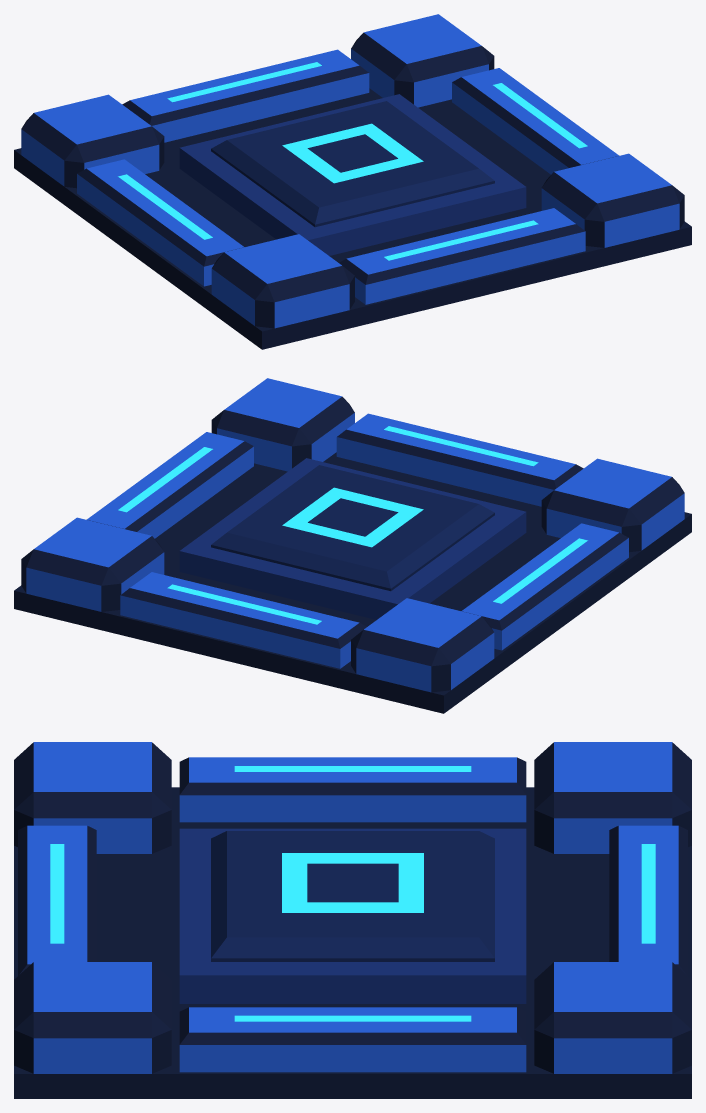
File: pressure_plate.glb
3 views of the same model, one above another, from view 1: azimuth 30°, elevation 25°; view 2: azimuth 150°, elevation 25°; view 3: azimuth 270°, elevation 25° (orthographic). The views are drawn at different scales.
Parts seen in each view (by area): view 1: Plate_Body, Plate_Pad, Plate_Strips, Plate_Ring; view 2: Plate_Body, Plate_Pad, Plate_Strips, Plate_Ring; view 3: Plate_Body, Plate_Pad, Plate_Strips, Plate_Ring.
Part boxes in pixels (x1=…): Plate_Body: x1=14, y1=14, x2=691, y2=349; Plate_Pad: x1=211, y1=101, x2=494, y2=227; Plate_Strips: x1=118, y1=62, x2=587, y2=260; Plate_Ring: x1=282, y1=123, x2=423, y2=183; Plate_Body: x1=14, y1=378, x2=691, y2=713; Plate_Pad: x1=211, y1=465, x2=494, y2=591; Plate_Strips: x1=118, y1=426, x2=587, y2=624; Plate_Ring: x1=282, y1=487, x2=423, y2=547; Plate_Body: x1=14, y1=742, x2=691, y2=1098; Plate_Pad: x1=211, y1=831, x2=494, y2=961; Plate_Strips: x1=50, y1=766, x2=655, y2=1021; Plate_Ring: x1=282, y1=853, x2=423, y2=912.
Bounding box in the file's own units: 0.86 × 0.11 × 0.86.
